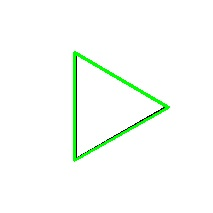line_segment: (73, 52, 169, 161)
